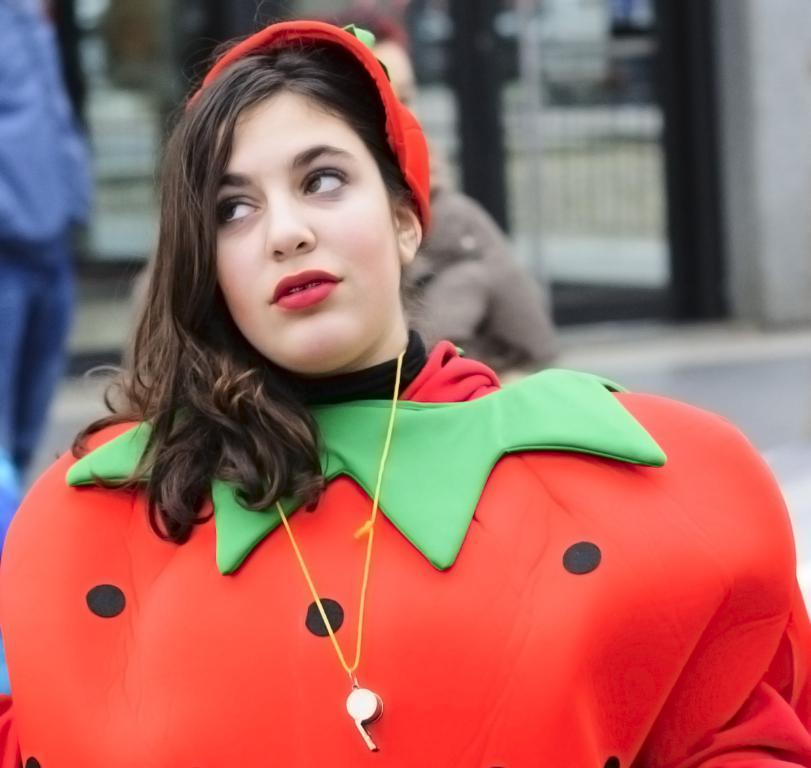Sem Máscara: (209, 85, 399, 376)
